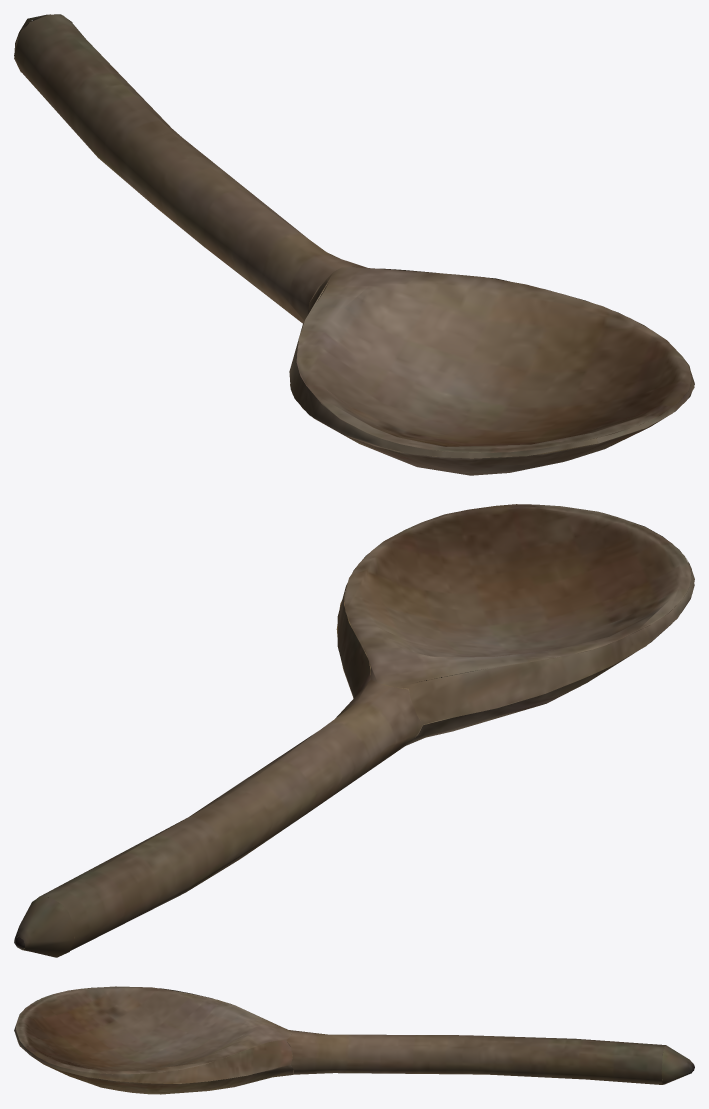
File: wooden_spoon.glb
3 renders of one model, top to bottom at view 1: azimuth 30°, elevation 25°; view 2: azimuth 150°, elevation 25°; view 3: azimuth 270°, elevation 25°, orthographic. The views are drawn at different scales.
Parts seen in each view (by area): view 1: wooden_spoon; view 2: wooden_spoon; view 3: wooden_spoon.
Part boxes in pixels (<box>): wooden_spoon: <box>14,14,694,475</box>; wooden_spoon: <box>14,504,694,957</box>; wooden_spoon: <box>14,986,694,1094</box>.
Bounding box in the file's own units: 0.0869 × 0.0251 × 0.2778.
Materials: 1 (1 with a texture image).
